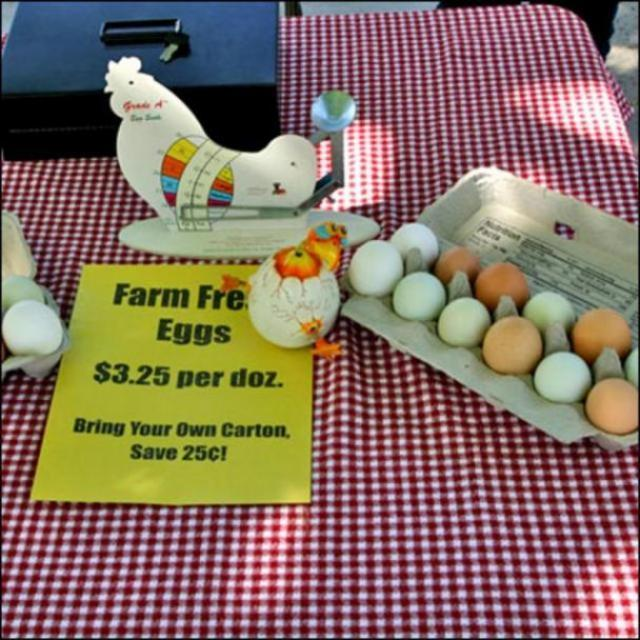Chicken: (109, 54, 317, 216)
